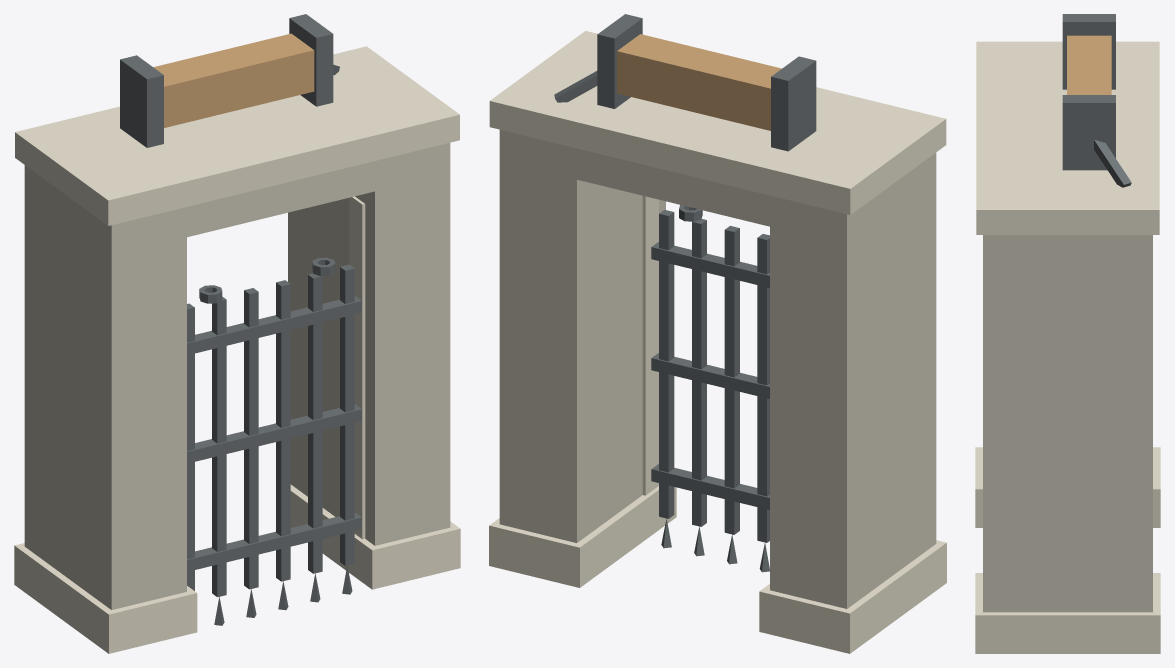
The model's file is winched-portcullis.glb.
3 views of the same model, side by side, from view 1: azimuth 30°, elevation 25°; view 2: azimuth 150°, elevation 25°; view 3: azimuth 270°, elevation 25° (orthographic). The views are drawn at different scales.
Visible parts, largest first — view 1: portcullis-winched, portcullis, hoist-drum; view 2: portcullis-winched, portcullis, hoist-drum; view 3: portcullis-winched, hoist-drum.
Boxes of the visible parts, x1=… form: portcullis-winched: x1=14, y1=14, x2=460, y2=653; portcullis: x1=187, y1=257, x2=361, y2=625; hoist-drum: x1=153, y1=33, x2=314, y2=127; portcullis-winched: x1=489, y1=14, x2=946, y2=653; portcullis: x1=651, y1=205, x2=769, y2=572; hoist-drum: x1=617, y1=34, x2=781, y2=130; portcullis-winched: x1=975, y1=14, x2=1160, y2=653; hoist-drum: x1=1067, y1=35, x2=1111, y2=94.
Bounding box in the file's own units: 3.74 × 5.44 × 1.74.
